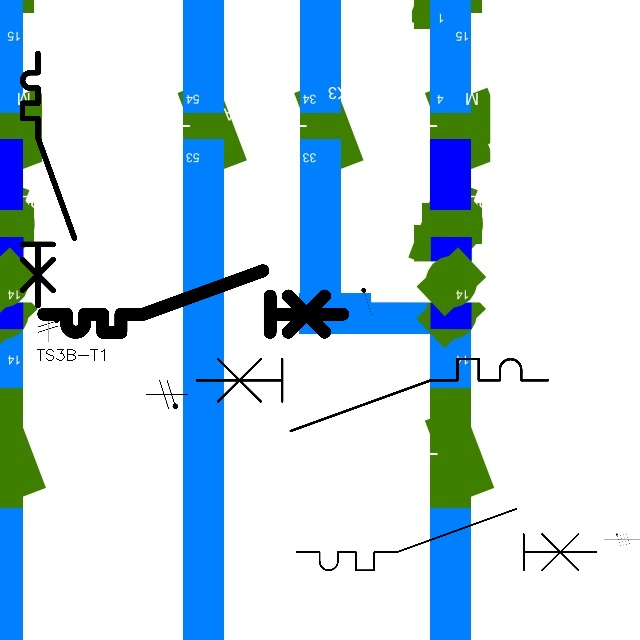interruptor_termomagnetico: (187, 350, 556, 440), (289, 501, 604, 578), (36, 263, 350, 340), (16, 47, 81, 312)
